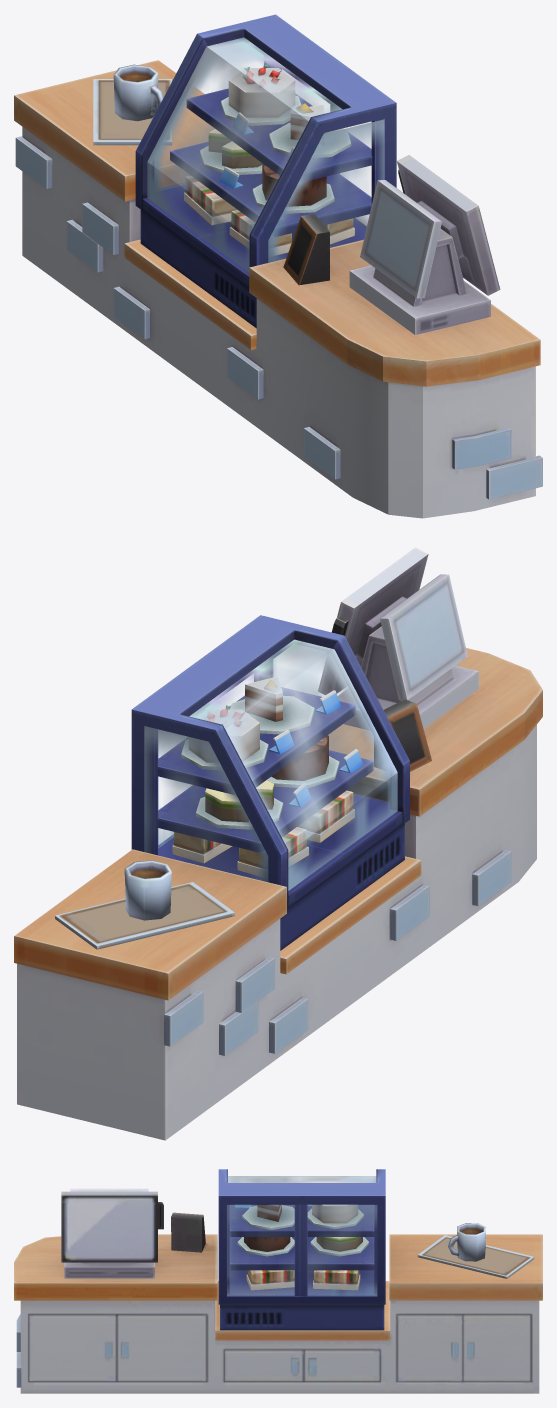
Rendered from my_cafe_01_b_bar_01.glb.
3 renders of one model, top to bottom at view 1: azimuth 30°, elevation 25°; view 2: azimuth 150°, elevation 25°; view 3: azimuth 270°, elevation 25°, orthographic. The views are drawn at different scales.
Parts seen in each view (by area): view 1: my_cafe_01_b_bar_01; view 2: my_cafe_01_b_bar_01; view 3: my_cafe_01_b_bar_01.
Part boxes in pixels (x1=…): my_cafe_01_b_bar_01: x1=14, y1=14, x2=542, y2=518; my_cafe_01_b_bar_01: x1=14, y1=547, x2=542, y2=1140; my_cafe_01_b_bar_01: x1=14, y1=1169, x2=542, y2=1393.
Size of the model in its own units: 0.00512 by 0.00945 by 0.0228.
Materials: 2 (2 with a texture image).
